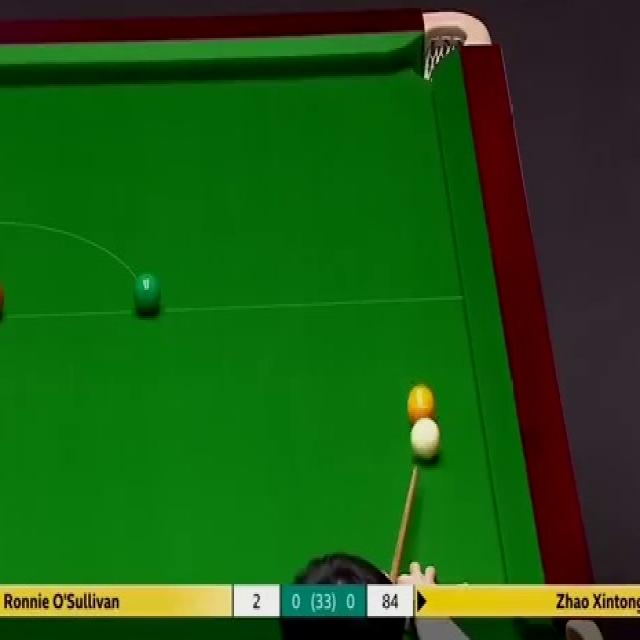green-ball: (132, 273, 161, 314)
white-ball: (410, 419, 440, 459)
yellow-ball: (408, 386, 435, 418)
